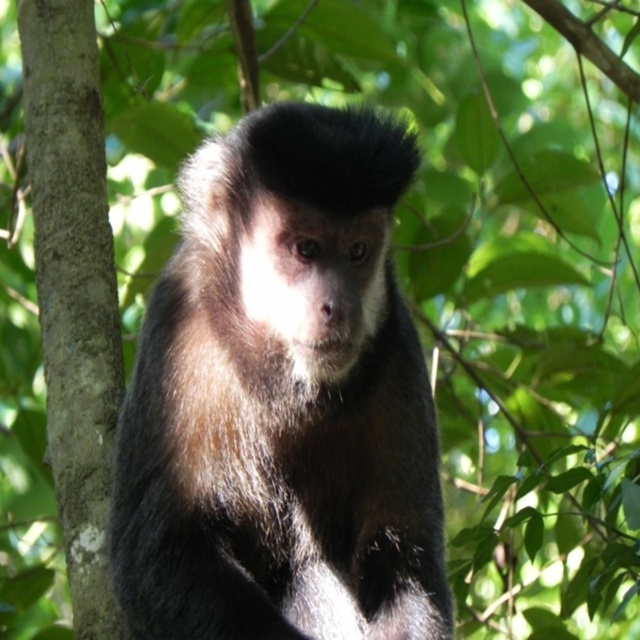Monkey: (109, 94, 460, 640)
